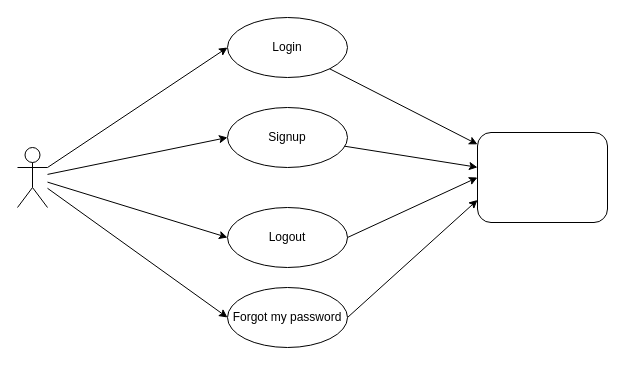
Some shapes in this 625 by 365 pixel diagram are drawn without their labels. The centre of each missing label's shape, as x and y in pixels:
AuthBloc: pixel 542 177
User: pixel 32 177
